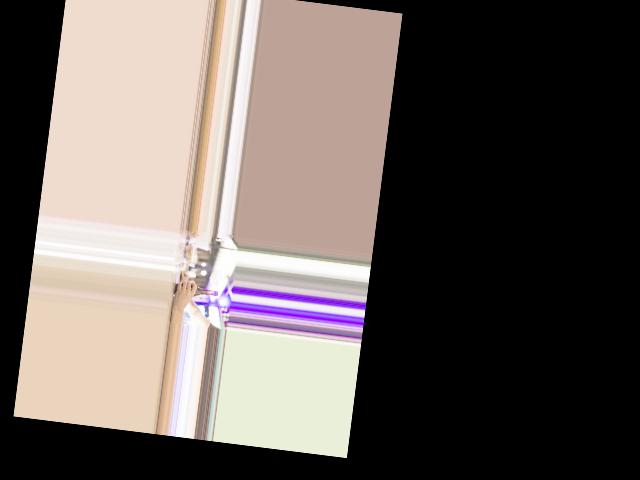beer: (174, 283, 218, 299)
